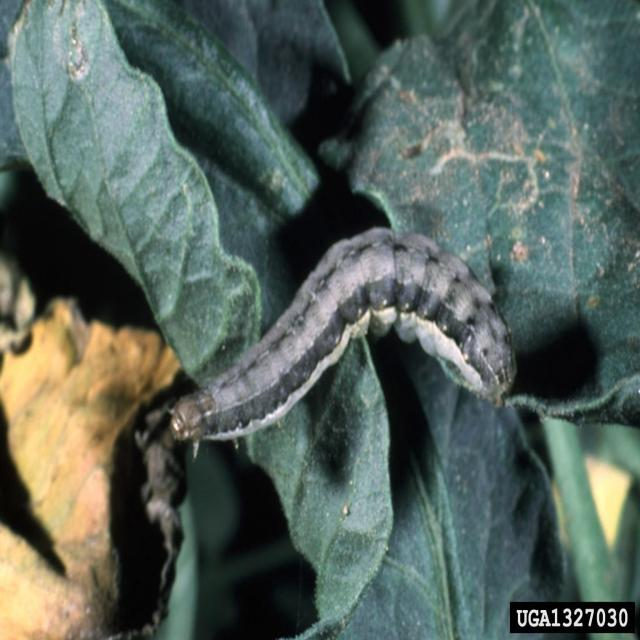army worm: (163, 215, 519, 448)
